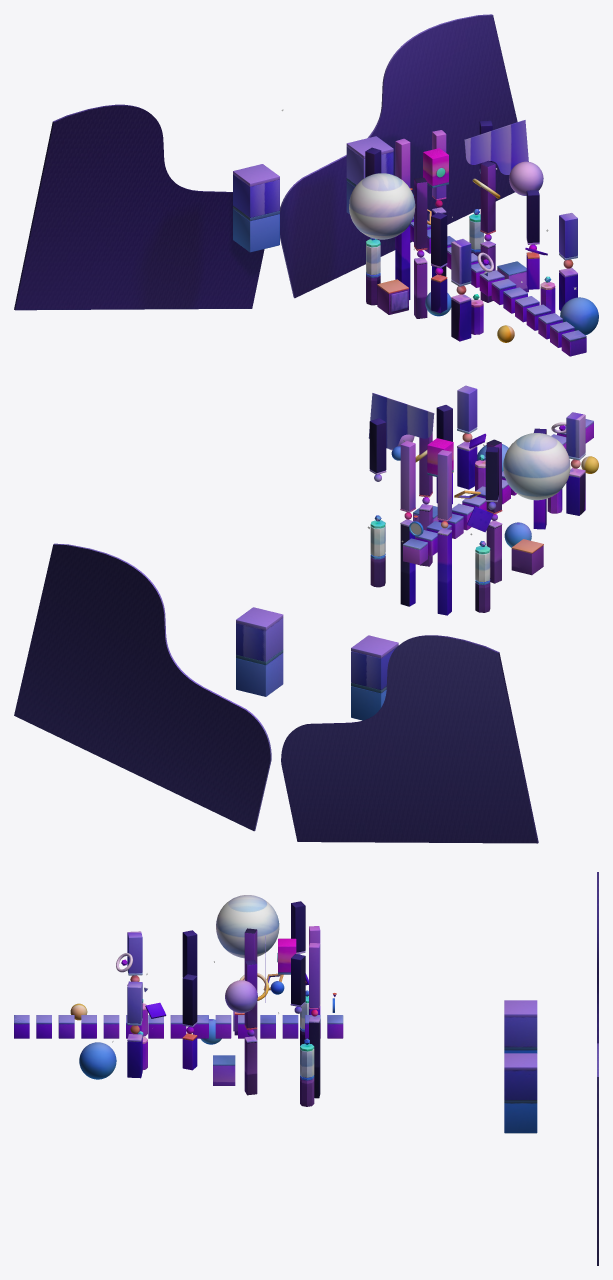
File: fullscene.gltf
3 renders of one model, top to bottom at view 1: azimuth 30°, elevation 25°; view 2: azimuth 150°, elevation 25°; view 3: azimuth 270°, elevation 25°, orthographic. The views are drawn at different scales.
Visible parts, largest first — view 1: BAKING_scene.1; view 2: BAKING_scene.1; view 3: BAKING_scene.1.
Boxes of the visible parts, x1=… form: BAKING_scene.1: x1=14, y1=14, x2=598, y2=356; BAKING_scene.1: x1=14, y1=385, x2=598, y2=843; BAKING_scene.1: x1=14, y1=872, x2=598, y2=1265.
Size of the model in its own units: 5099 by 2747 by 5226.
Materials: 1 (1 with a texture image).
